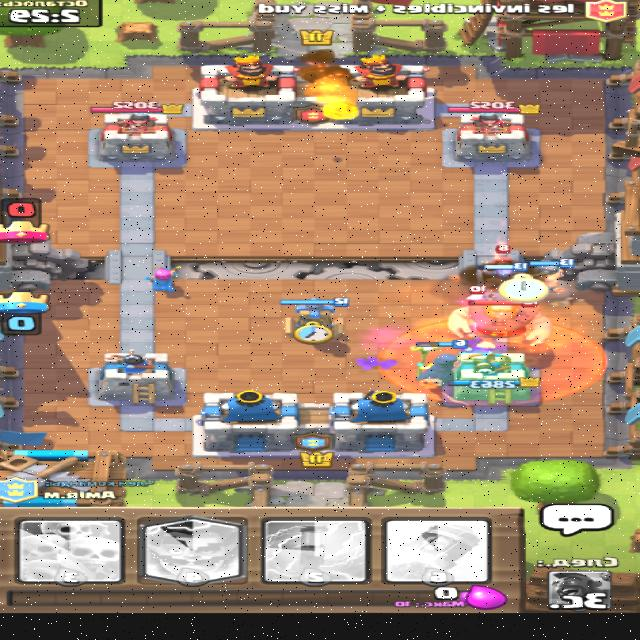Enemy-Fireball: (304, 69, 364, 121)
Enemy-Giant: (447, 298, 556, 351)
Enemy-Skeleton: (468, 284, 498, 300)
Enemy-Wizard: (488, 243, 519, 264)
Player-Archer: (145, 264, 183, 292)
Player-EliteBarbarian: (532, 258, 576, 292), (479, 262, 530, 288)
Player-Tesla: (278, 294, 354, 339)
Player-Witch: (414, 339, 469, 384)
